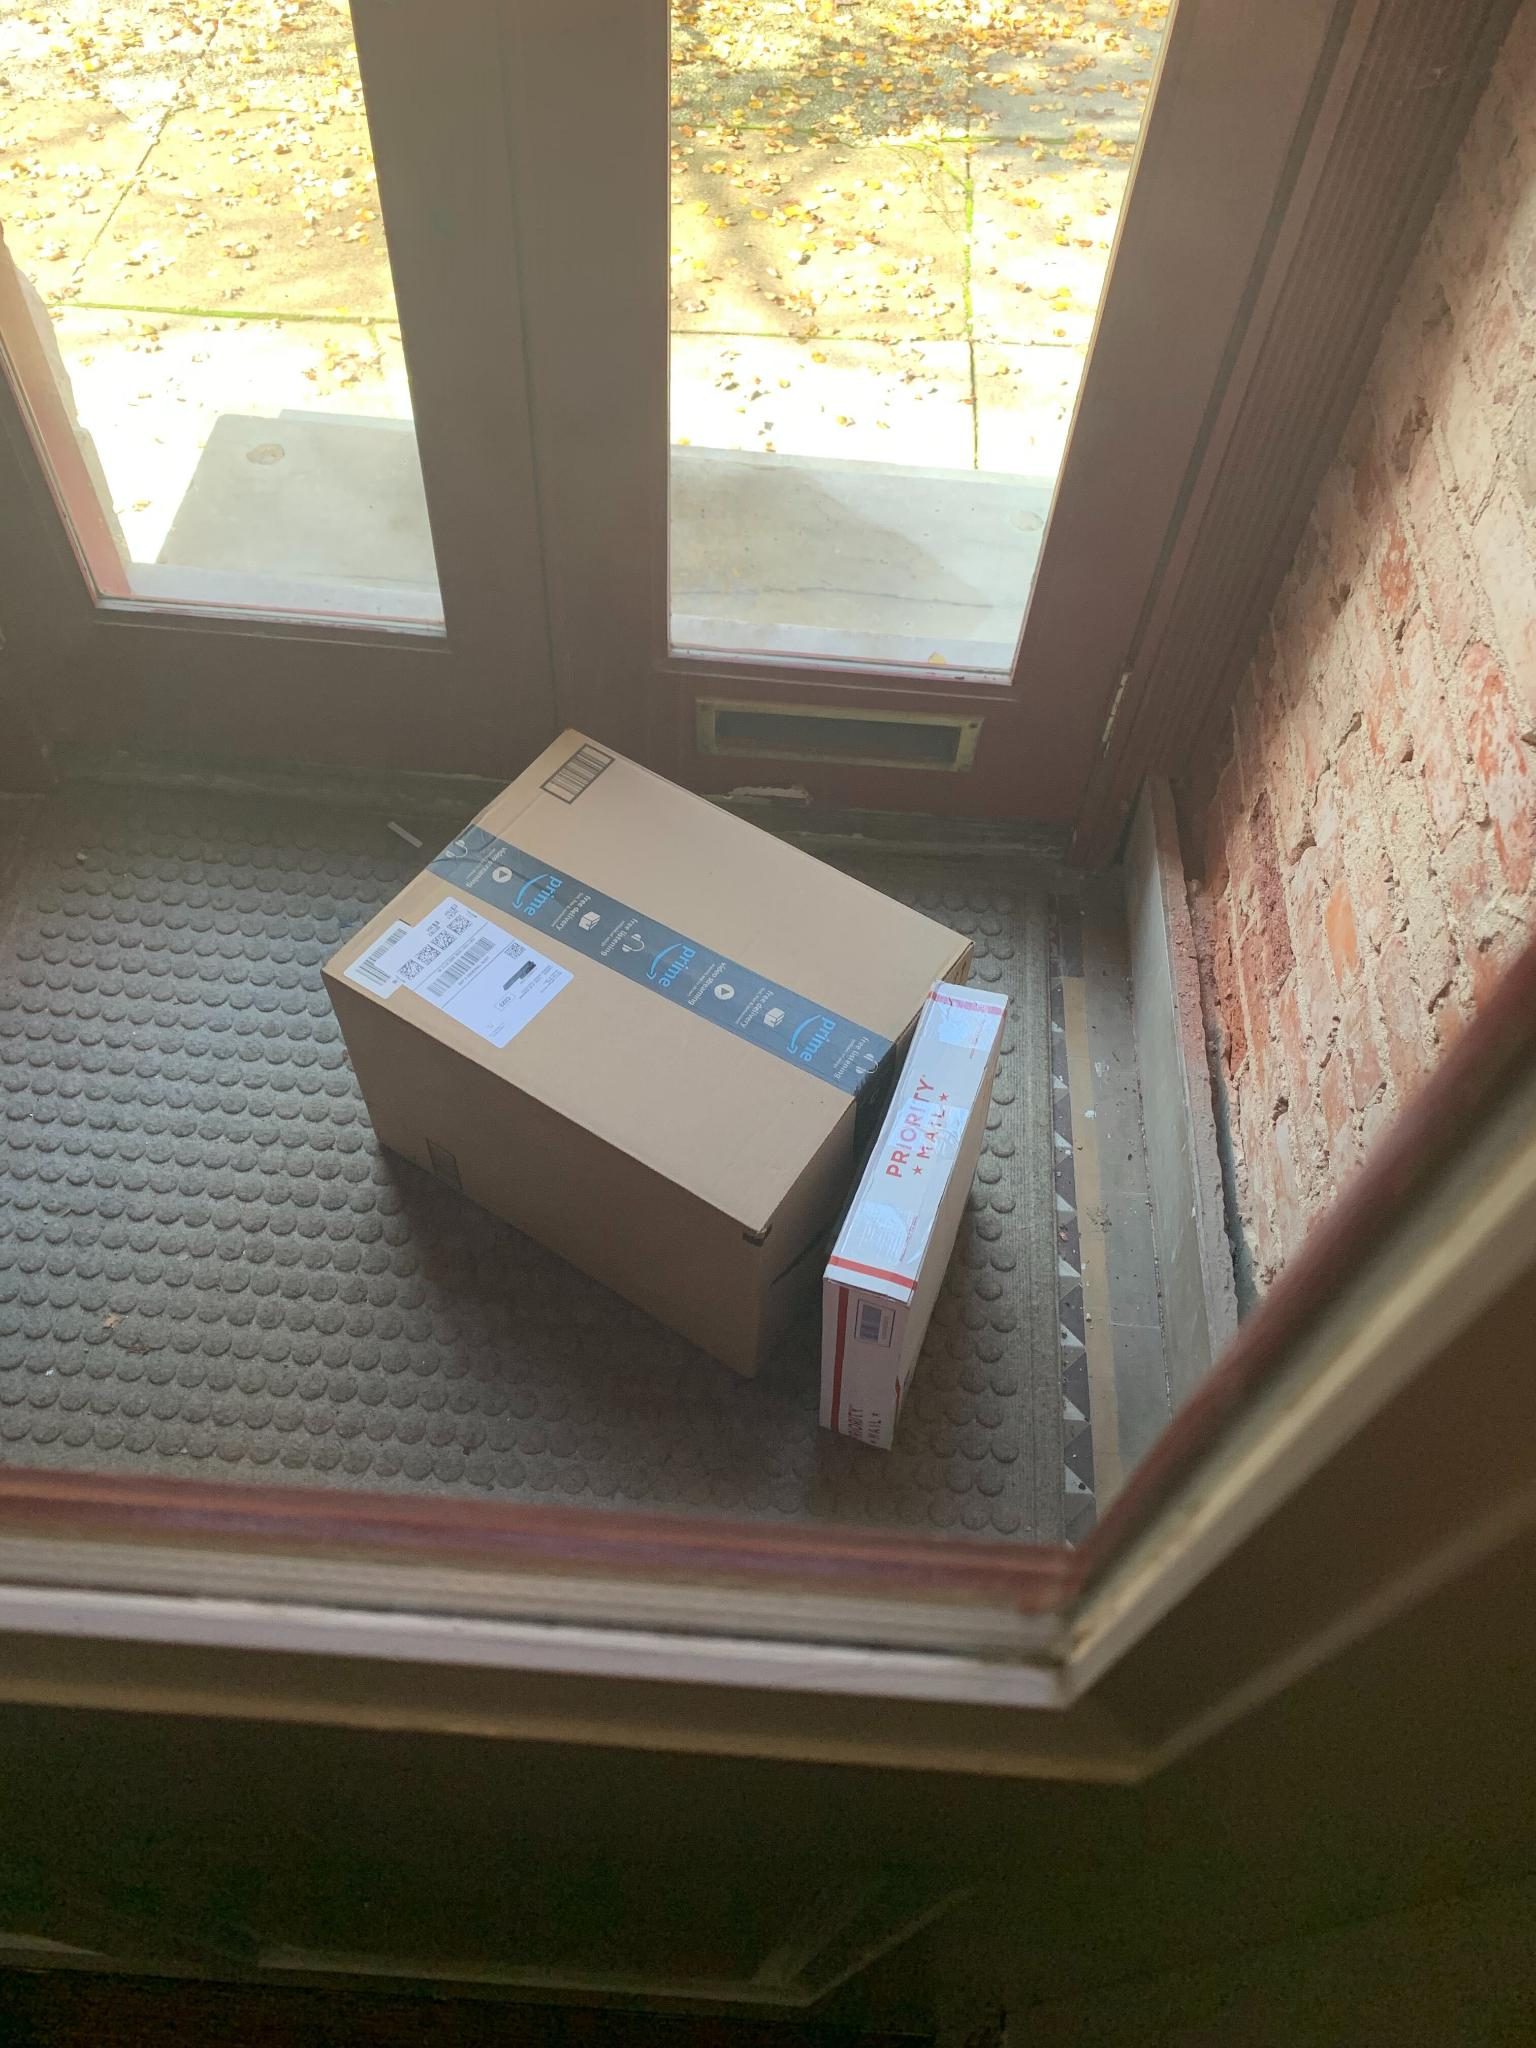package: (323, 724, 971, 1395), (813, 980, 1016, 1455)
